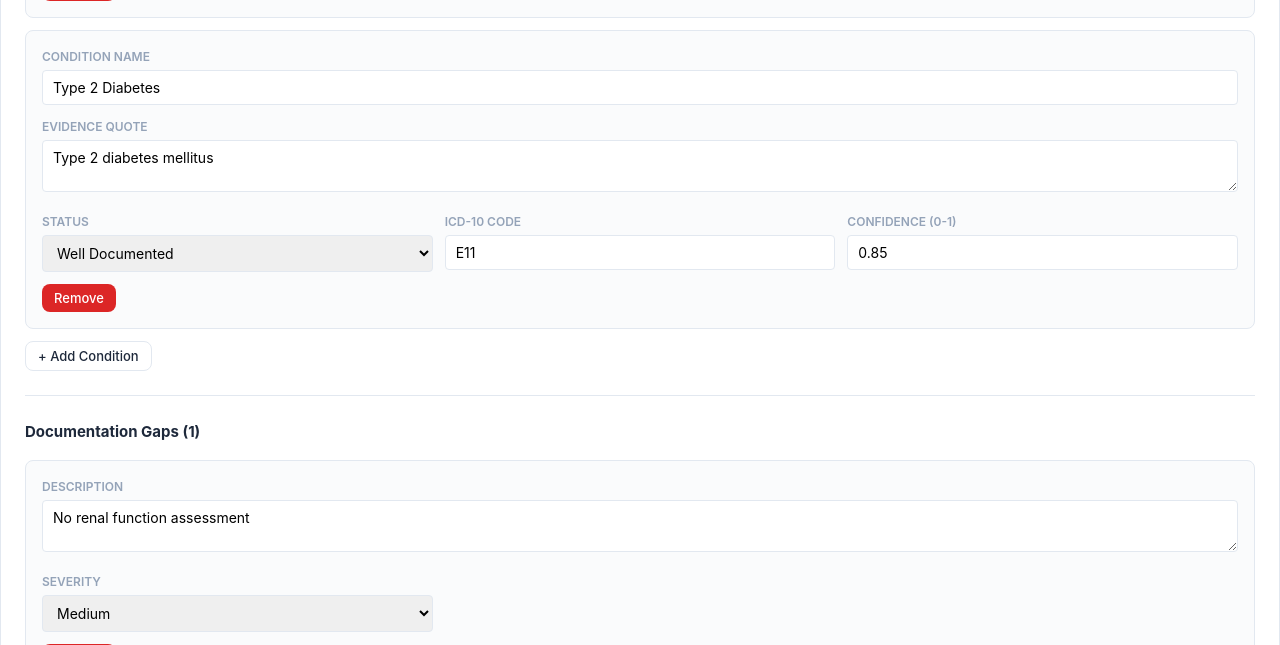
Test: ReviewEditor › allows adding a new condition
The width and height of the screenshot is (1280, 645).
(page scrolled)
Click the button "+ Add Condition". click: (88, 356)
box: [25, 341, 152, 371]
(page scrolled)
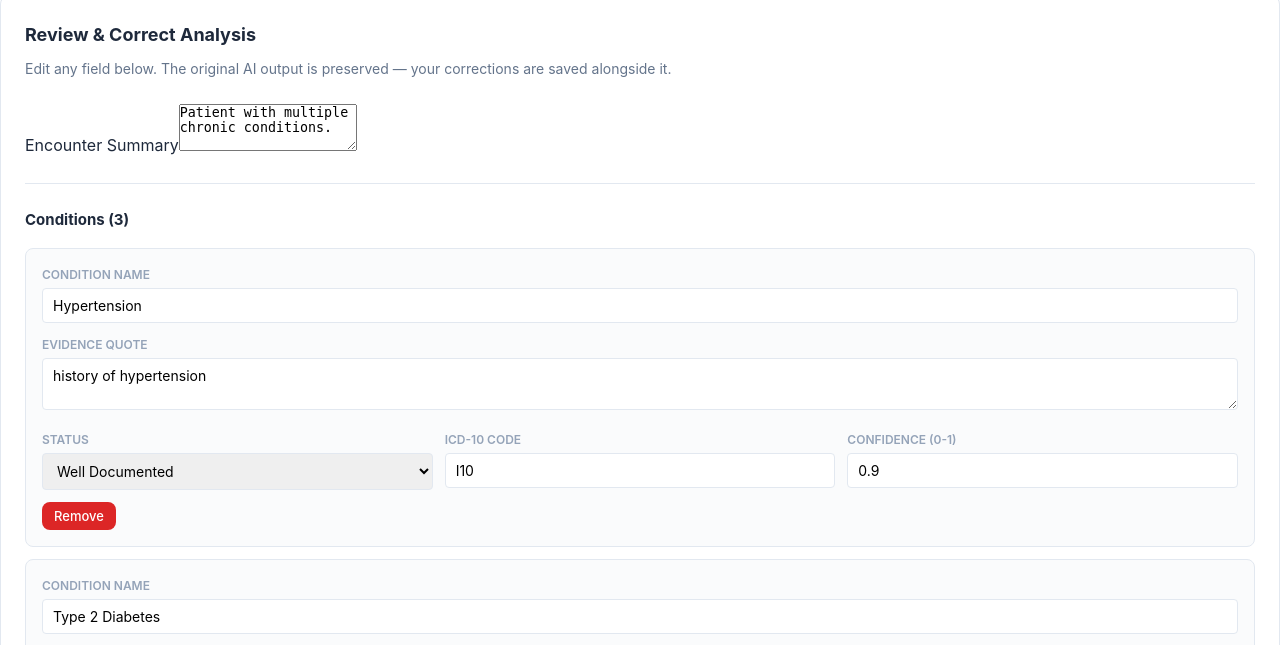
expect the heading "Conditions (3)" is shown: met, box [25, 210, 129, 229]
